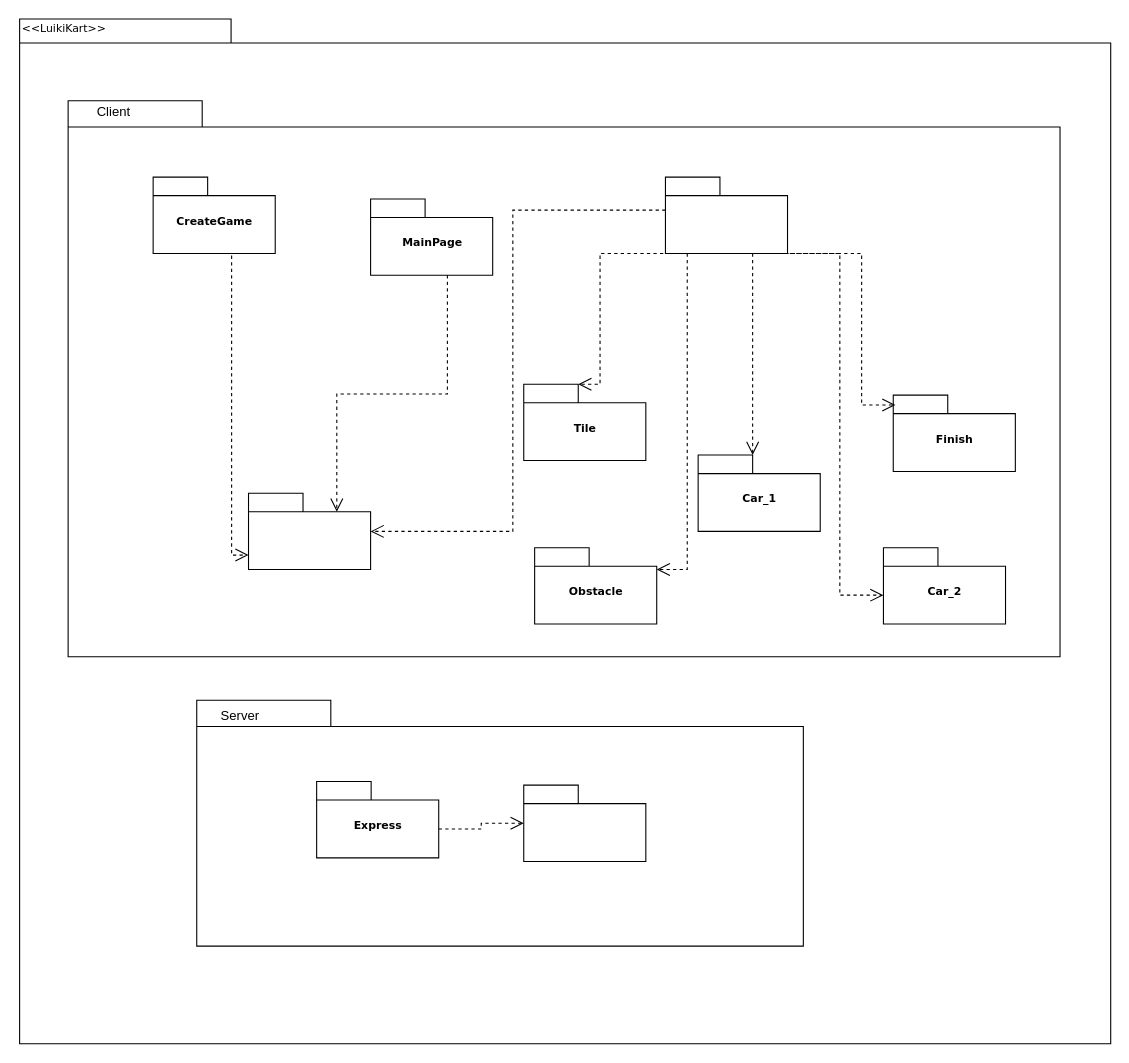
This 1129x1063 diagram has some shape labels left out. Here are the shapes that lost their labels. From the top down, the centre of each, then its label:
the point at 726,214: Game
the point at 309,531: Navigation
the point at 584,822: Sockets
